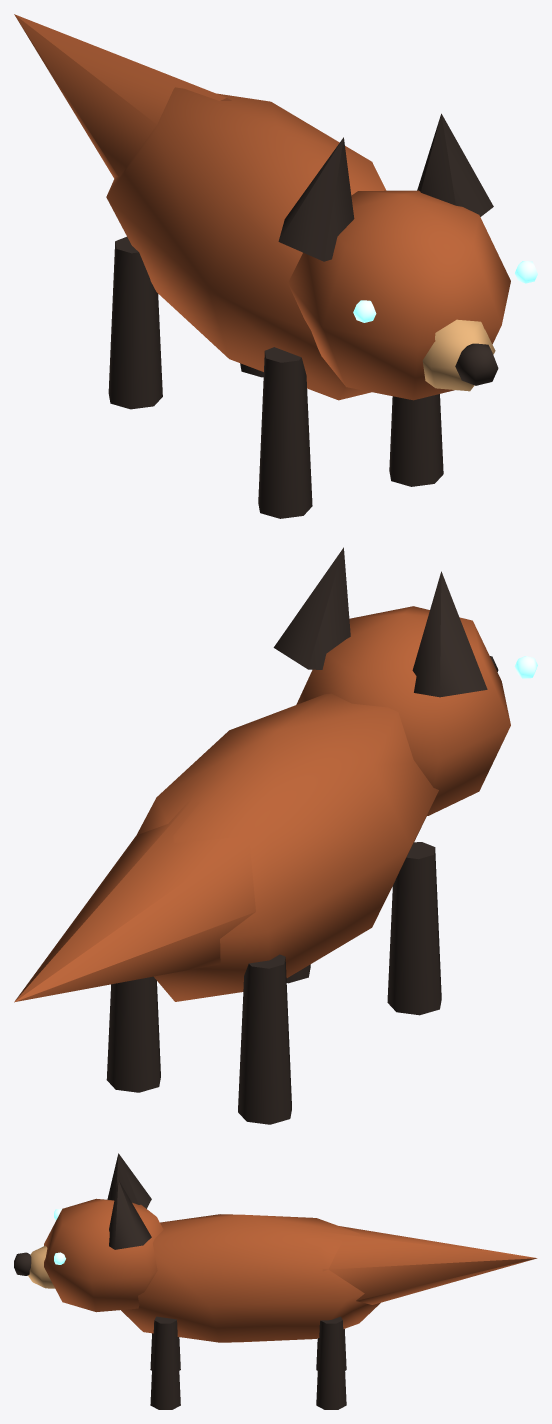
The model's file is patch-fox-lod1.glb.
3 views of the same model, one above another, from view 1: azimuth 30°, elevation 25°; view 2: azimuth 150°, elevation 25°; view 3: azimuth 270°, elevation 25° (orthographic). The views are drawn at different scales.
Visible parts, largest first — view 1: MESH_patch_fox_fur, MESH_patch_fox_dark, MESH_patch_fox_furLight, MESH_patch_fox_eye; view 2: MESH_patch_fox_fur, MESH_patch_fox_dark; view 3: MESH_patch_fox_fur, MESH_patch_fox_dark, MESH_patch_fox_furLight.
Boxes of the visible parts, <box> form: MESH_patch_fox_fur: <box>14,14,510,400</box>; MESH_patch_fox_dark: <box>108,113,498,518</box>; MESH_patch_fox_furLight: <box>422,319,495,391</box>; MESH_patch_fox_eye: <box>353,261,537,322</box>; MESH_patch_fox_fur: <box>14,606,510,1002</box>; MESH_patch_fox_dark: <box>106,547,498,1124</box>; MESH_patch_fox_fur: <box>44,1198,537,1342</box>; MESH_patch_fox_dark: <box>14,1153,346,1409</box>; MESH_patch_fox_furLight: <box>28,1245,54,1288</box>.
Size of the model in its own units: 1.35 by 2.49 by 5.37.
